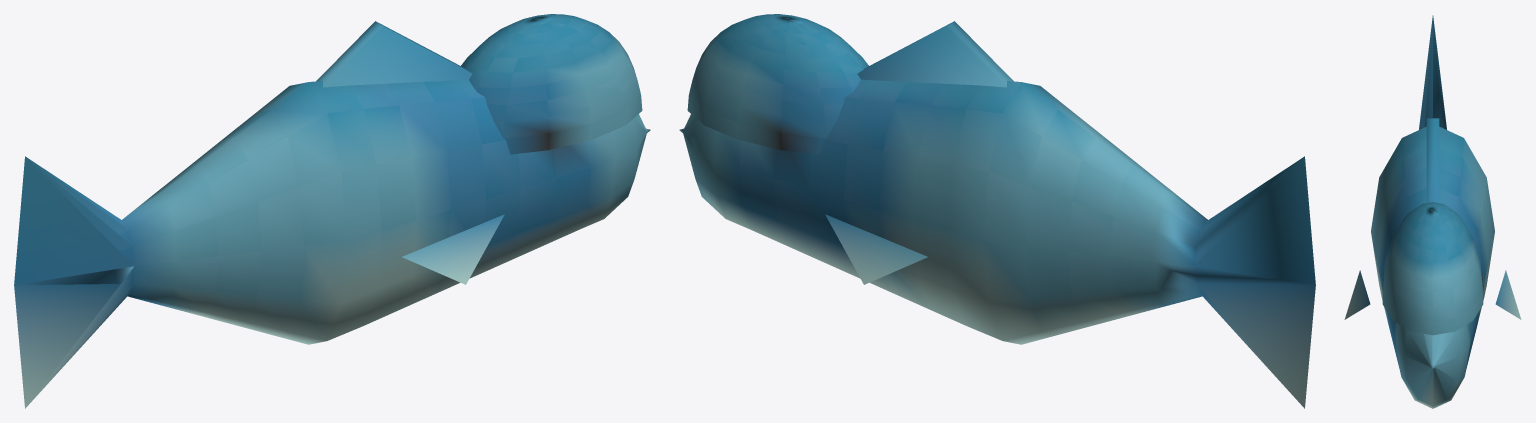
File: Humphead.glb
3 renders of one model, left to right at view 1: azimuth 30°, elevation 25°; view 2: azimuth 150°, elevation 25°; view 3: azimuth 270°, elevation 25°, orthographic. The views are drawn at different scales.
Visible parts, largest first — view 1: Humphead; view 2: Humphead; view 3: Humphead.
Part boxes in pixels (bbox=[...]): Humphead: bbox=[14, 14, 650, 408]; Humphead: bbox=[679, 14, 1315, 408]; Humphead: bbox=[1344, 15, 1521, 408].
Bounding box in the file's own units: 1.16 × 0.5287 × 0.34.
